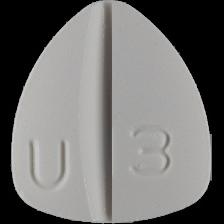52125-864: (0, 0, 224, 224)
